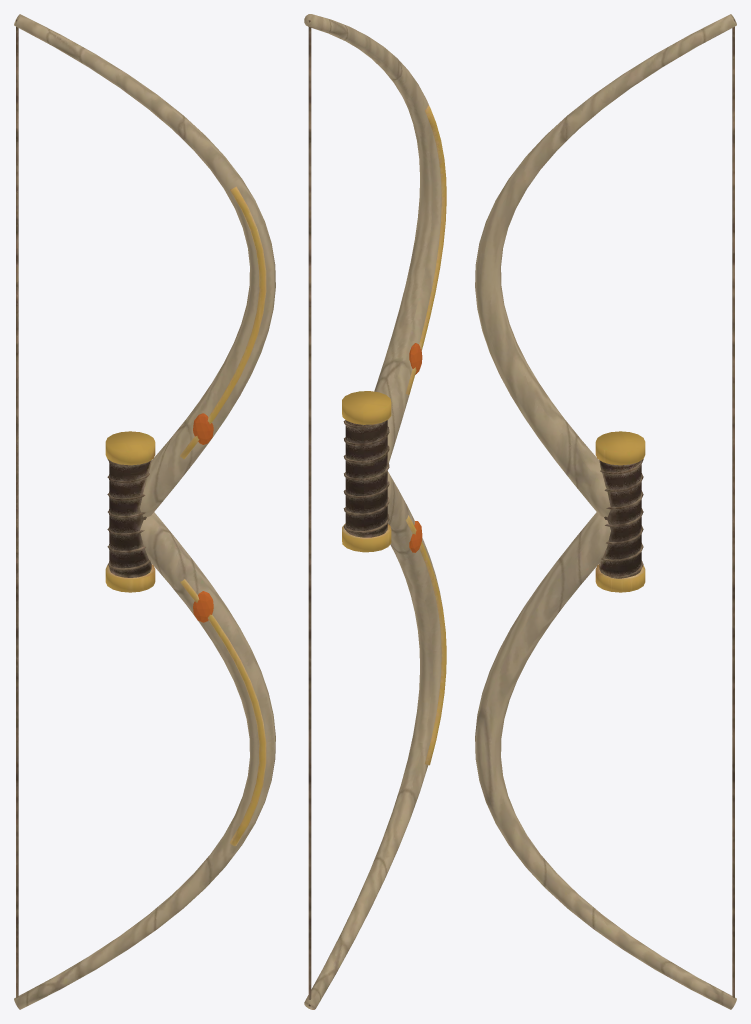
The model's file is eq_bow_3.glb.
3 renders of one model, left to right at view 1: azimuth 90°, elevation 25°; view 2: azimuth 150°, elevation 25°; view 3: azimuth 270°, elevation 25°, orthographic.
Visible parts, largest first — view 1: eq_bow_3; view 2: eq_bow_3; view 3: eq_bow_3.
Boxes of the visible parts, x1,y1,x2,y2 form: eq_bow_3: (14,14,275,1009); eq_bow_3: (304,14,446,1009); eq_bow_3: (475,14,736,1009).
Size of the model in its own units: 0.066 by 1.46 by 0.3473.
1 material, 1 textured.
